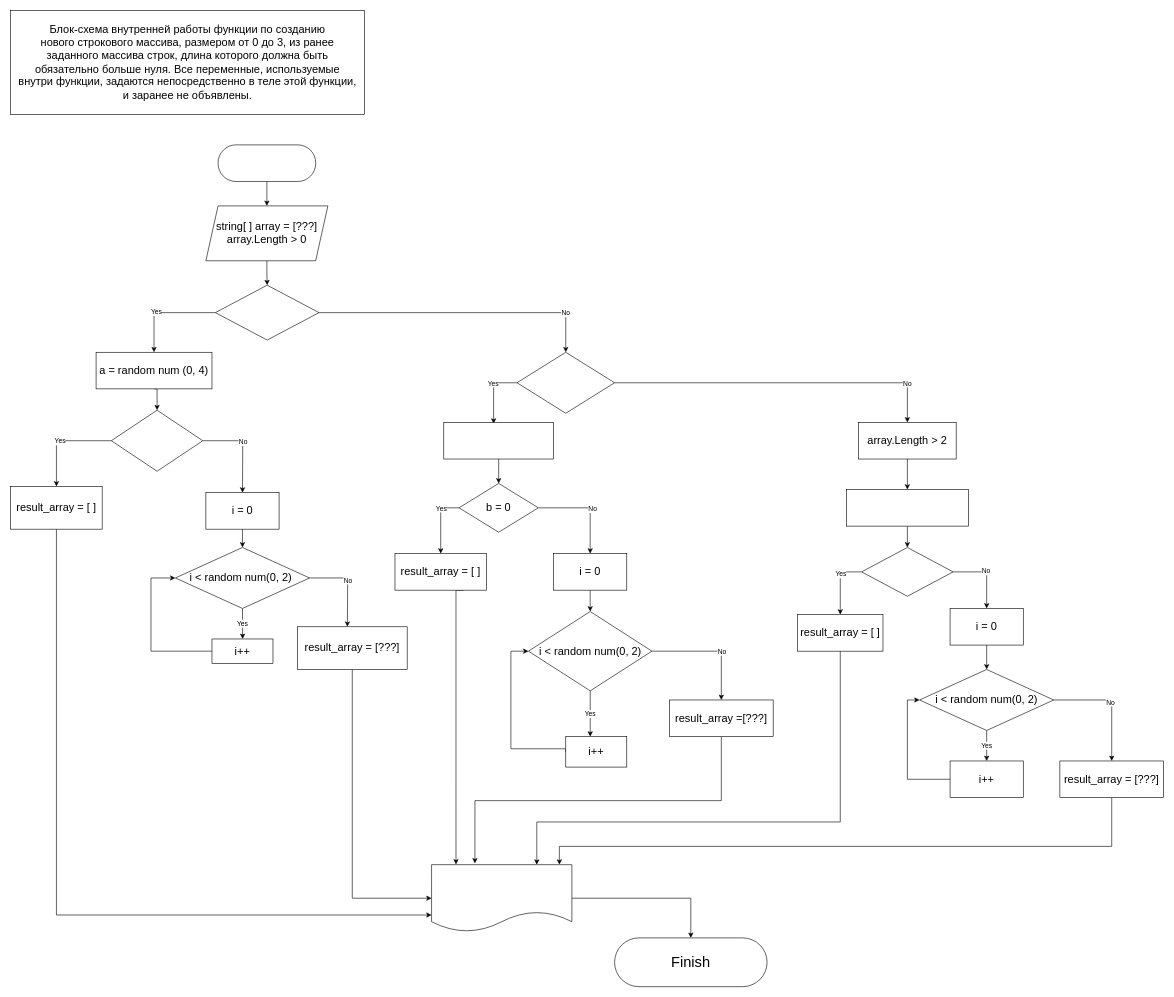
This 1174x997 diagram has some shape labels left out. The box of each missing label's shape, as (x1, y1, x2, y2) in pixels:
a = 0: (111, 410, 203, 471)
array.Length = 1: (516, 352, 615, 413)
array.Length = 2: (215, 285, 319, 340)
b = random num(0, 4): (443, 422, 554, 459)
c = 0: (861, 547, 953, 596)
c = random num(0, 4): (846, 489, 968, 526)
print(result_array): (431, 864, 572, 932)
Start: (217, 144, 316, 181)
